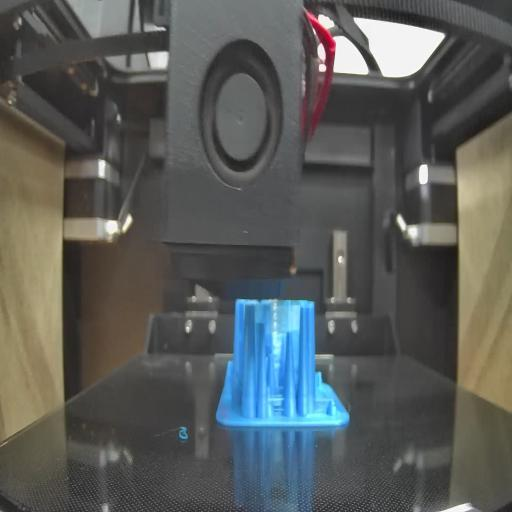stringing: (254, 306, 302, 333), (268, 390, 286, 415), (316, 394, 333, 406)
